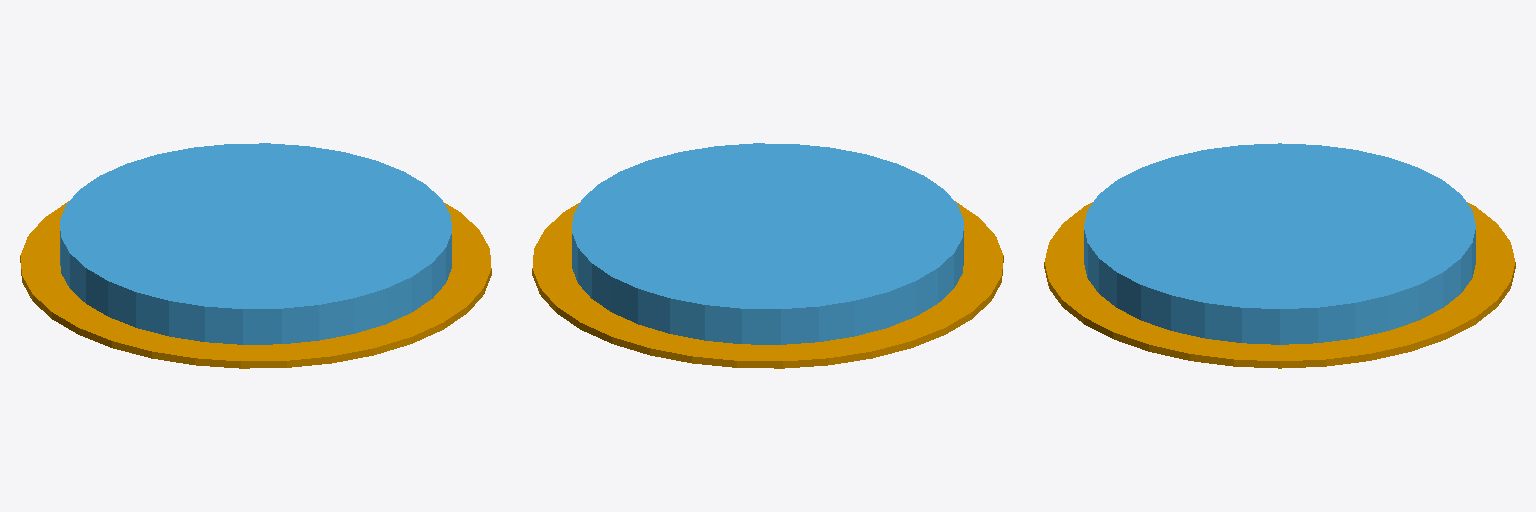
URDF robot description (pressure_sensor_robot):
<?xml version="1.0"?>
<robot name="pressure_sensor_robot">
  <!-- Base Link -->
  <link name="sensor_base_link">
    <visual>
      <geometry>
        <cylinder length="0.001" radius="0.03"/> <!-- Base link with reduced height to 1mm -->
      </geometry>
      <material name="gray"/>
    </visual>
    <collision>
      <geometry>
        <cylinder length="0.001" radius="0.03"/> <!-- Base link with reduced height to 1mm -->
      </geometry>
    </collision>
  </link>

  <!-- Pressure Sensor Link -->
  <link name="pressure_sensor">
    <visual>
      <geometry>
        <cylinder length="0.005" radius="0.025"/> <!-- Small cylinder for pressure sensor -->
      </geometry>
      <material name="green"/>
    </visual>
    <collision>
      <geometry>
        <cylinder length="0.005" radius="0.025"/> <!-- Small cylinder for pressure sensor -->
      </geometry>
    </collision>
  </link>

  <joint name="pressure_sensor_joint" type="fixed">
    <parent link="sensor_base_link"/>
    <child link="pressure_sensor"/>
    <origin xyz="0 0 0.003" rpy="0 0 0"/> <!-- Slight offset to avoid collision overlap -->
  </joint>

  <!-- Gazebo Plugins -->
  <gazebo>
    <sensor type="contact" name="pressure_sensor_contact">
      <always_on>true</always_on>
      <update_rate>50.0</update_rate>
      <contact>
        <collision>pressure_sensor::pressure_sensor_collision</collision>
      </contact>
      <plugin name="gazebo_ros_bumper" filename="libgazebo_ros_bumper.so">
        <alwaysOn>true</alwaysOn>
        <updateRate>50.0</updateRate>
        <bumperTopicName>pressure_sensor</bumperTopicName>
      </plugin>
    </sensor>
  </gazebo>
</robot>

--- Facts derived from the render (not from the file) ---
Views: 3 orthographic renders of the robot side by side, from view 1: azimuth 30°, elevation 25°; view 2: azimuth 150°, elevation 25°; view 3: azimuth 270°, elevation 25°.
Model pressure_sensor_robot with 2 links and 1 joints (1 fixed), rooted at sensor_base_link, posed all joints at 0.
Links seen in each view (by area): view 1: pressure_sensor, sensor_base_link; view 2: pressure_sensor, sensor_base_link; view 3: pressure_sensor, sensor_base_link.
Link boxes in pixels (<box>): pressure_sensor: <box>60,143,451,344</box>; sensor_base_link: <box>20,201,491,368</box>; pressure_sensor: <box>572,143,963,344</box>; sensor_base_link: <box>532,201,1003,368</box>; pressure_sensor: <box>1084,143,1475,344</box>; sensor_base_link: <box>1044,202,1515,368</box>.
Size in the robot's own frame: 0.06 by 0.06 by 0.006 metres.
Geometry: primitives only (box / cylinder / sphere), no mesh files.
